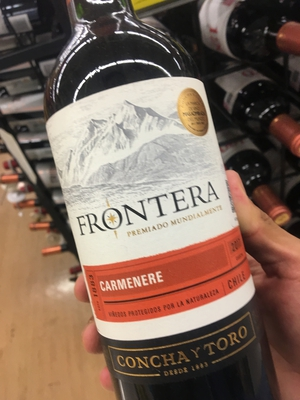frontera cabernet sauvignon: (49, 1, 279, 400)
frontera carmenere: (42, 29, 265, 383)
